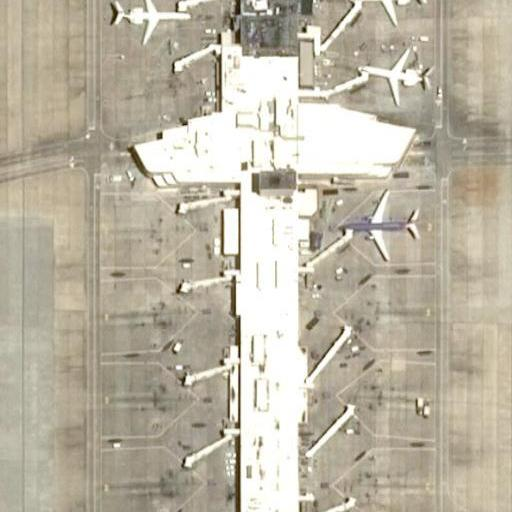Aircraft: (341, 182, 421, 266), (353, 46, 434, 100), (106, 0, 196, 39), (346, 0, 434, 22)
